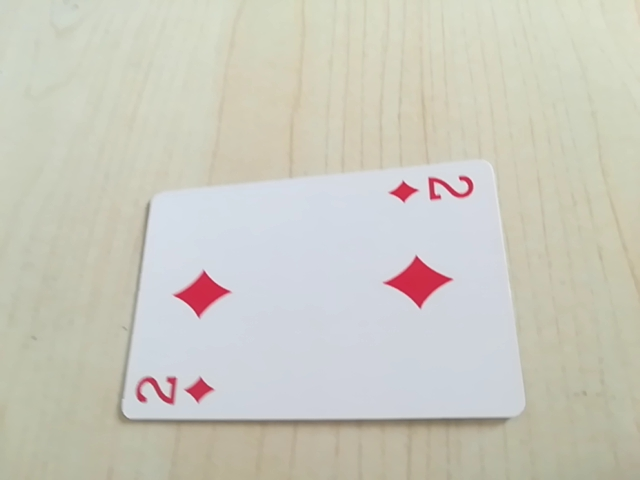fk 2: (131, 366, 224, 417), (387, 168, 482, 211)
